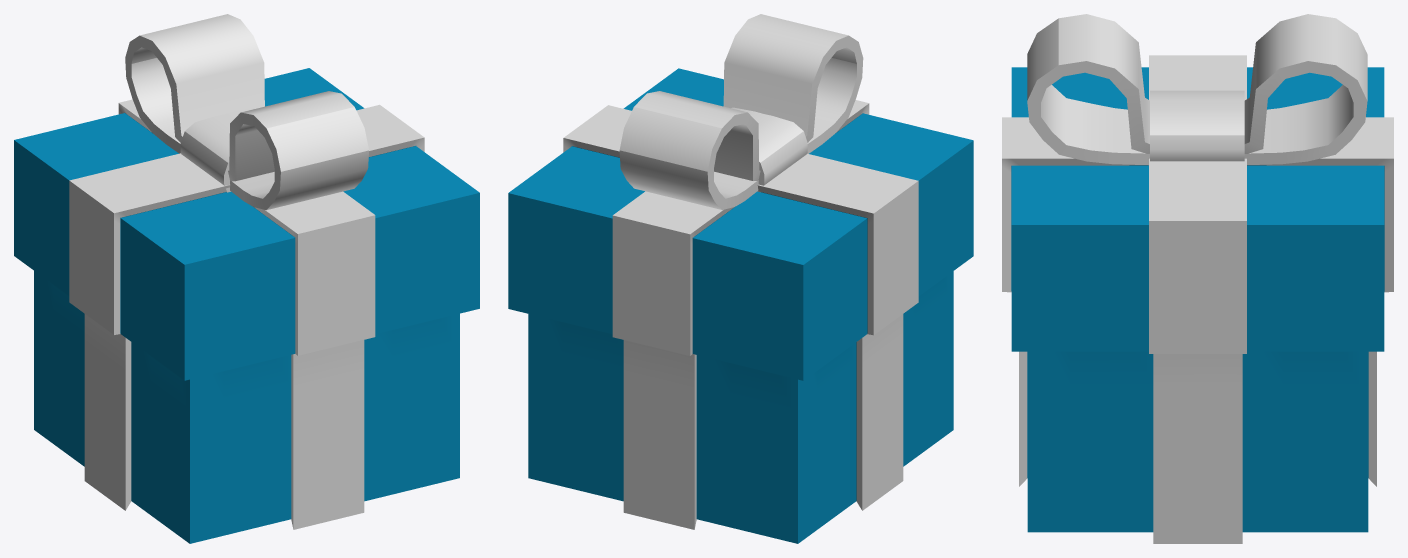
Rendered from cadeau bleu.fbx.
3 renders of one model, left to right at view 1: azimuth 30°, elevation 25°; view 2: azimuth 150°, elevation 25°; view 3: azimuth 270°, elevation 25°, orthographic. The views are drawn at different scales.
Visible parts, largest first — view 1: pCube1, pCube2, pCube4, pCube3; view 2: pCube1, pCube4, pCube2, pCube3; view 3: pCube1, pCube4, pCube2, pCube3.
Part boxes in pixels (x1,y1,x2,y2): pCube1: (14,68,479,543); pCube2: (228,91,368,210); pCube4: (125,14,264,153); pCube3: (180,107,257,192); pCube1: (508,68,973,543); pCube4: (619,91,760,209); pCube2: (723,14,863,153); pCube3: (731,107,807,192); pCube1: (1002,55,1393,543); pCube4: (1244,14,1367,164); pCube2: (1027,14,1149,165); pCube3: (1150,90,1244,161).
Bounding box in the file's own units: 9.2 × 11.16 × 9.2.
